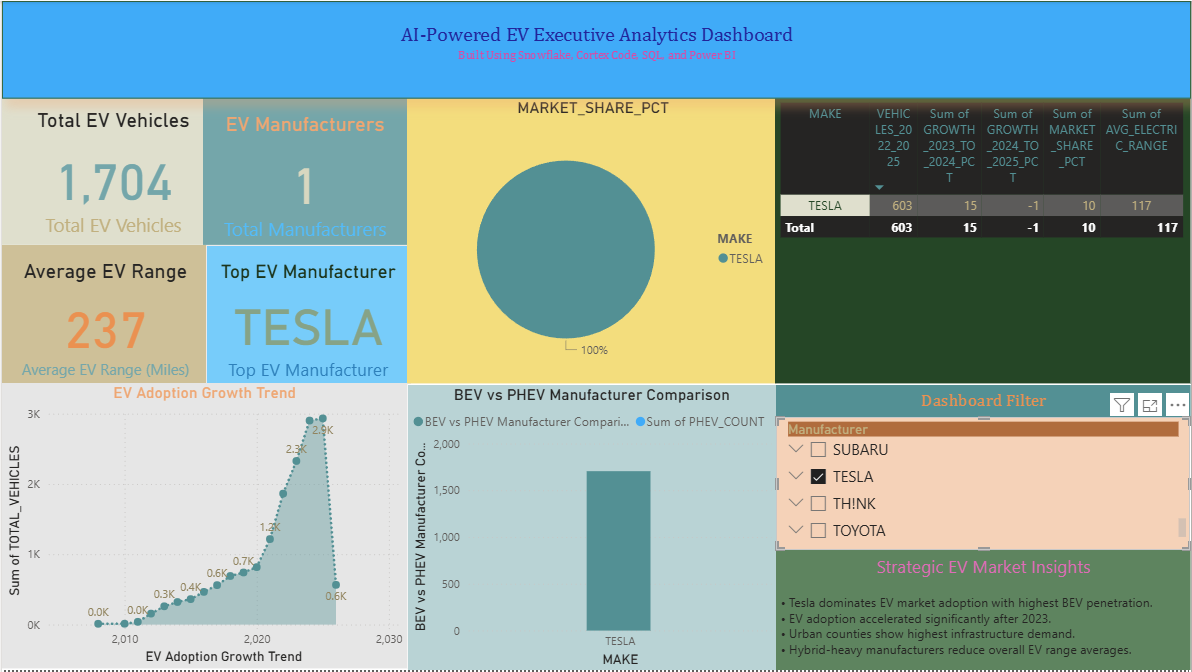

The page's visual inventory and layout, read from the dashboard file:
{"tool":"powerbi","page":{"name":"Page 1","canvas":[1280,720],"ordinal":0},"visuals":[{"type":"card","title":"Total EV Vehicles","fields":{"Values":["Sum(EV_ADOPTION_BY_MANUFACTURER.TOTAL_VEHICLES)"]},"box":[0,104.3,219.9,158.2],"z":0},{"type":"card","title":"EV Manufacturers","fields":{"Values":["EV_POPULATION_SILVER.Total Manufacturers"]},"box":[216.5,104.3,219.9,158.2],"z":1000},{"type":"card","title":"Average EV Range","fields":{"Values":["EV_ADOPTION_BY_MANUFACTURER.Average EV Range (Miles)"]},"box":[0,262.5,219.9,150.3],"z":2000},{"type":"card","title":"Top EV Manufacturer","fields":{"Values":["EV_POPULATION_SILVER.Top EV Manufacturer"]},"box":[219.9,262.5,219.9,149.2],"z":3000},{"type":"pieChart","title":"MARKET_SHARE_PCT","fields":{"Category":["EV_ADOPTION_BY_MANUFACTURER.MAKE"],"Y":["Sum(EV_ADOPTION_BY_MANUFACTURER.MARKET_SHARE_PCT)"]},"box":[436.1,104.8,396.7,307.2],"z":4000},{"type":"lineChart","title":"EV Adoption Growth Trend","fields":{"Category":["EV_GROWTH_BY_YEAR.MODEL_YEAR"],"Y":["Sum(EV_GROWTH_BY_YEAR.TOTAL_VEHICLES)"]},"box":[0,411,436.1,307.2],"z":5000},{"type":"columnChart","title":"BEV vs PHEV Manufacturer Comparison","fields":{"Category":["EV_ADOPTION_BY_MANUFACTURER.MAKE"],"Y":["Sum(EV_ADOPTION_BY_MANUFACTURER.BEV_COUNT)","Sum(EV_ADOPTION_BY_MANUFACTURER.PHEV_COUNT)"]},"box":[436.4,412.8,396,307.4],"z":6000},{"type":"tableEx","fields":{"Values":["EV_FASTEST_GROWING_MANUFACTURERS.MAKE","Sum(EV_FASTEST_GROWING_MANUFACTURERS.TOTAL_VEHICLES_2022_2025)","Sum(EV_FASTEST_GROWING_MANUFACTURERS.GROWTH_2023_TO_2024_PCT)","Sum(EV_FASTEST_GROWING_MANUFACTURERS.GROWTH_2024_TO_2025_PCT)","Sum(EV_FASTEST_GROWING_MANUFACTURERS.MARKET_SHARE_PCT)","Sum(EV_FASTEST_GROWING_MANUFACTURERS.AVG_ELECTRIC_RANGE)"]},"box":[831.9,104.8,447.8,307.2],"z":7000},{"type":"textbox","box":[832.8,590.1,446.9,129.9],"z":8000},{"type":"textbox","box":[0,0,1279.7,104.8],"z":9000},{"type":"textbox","box":[832.8,412.8,446.9,34.9],"z":10000},{"type":"slicer","fields":{"Values":["EV_POPULATION_SILVER.MAKE","EV_POPULATION_SILVER.MODEL_YEAR","EV_POPULATION_SILVER.ELECTRIC_VEHICLE_TYPE"]},"box":[832.5,447.5,446.4,143.1],"z":11000}]}

Visuals, with their boxes in screenshot pixels (x1, y1, x2, y2), scaled from the page's 1280x720 canvas onto the 1192x672 screenshot:
"Total EV Vehicles" card: select_region(0, 97, 205, 245)
"EV Manufacturers" card: select_region(202, 97, 406, 245)
"Average EV Range" card: select_region(0, 245, 205, 385)
"Top EV Manufacturer" card: select_region(205, 245, 410, 384)
"MARKET_SHARE_PCT" pieChart: select_region(406, 98, 776, 385)
"EV Adoption Growth Trend" lineChart: select_region(0, 384, 406, 670)
"BEV vs PHEV Manufacturer Comparison" columnChart: select_region(406, 385, 775, 671)
tableEx - EV_FASTEST_GROWING_MANUFACTURERS.MAKE x Sum(EV_FASTEST_GROWING_MANUFACTURERS.TOTAL_VEHICLES_2022_2025): select_region(775, 98, 1191, 385)
textbox: select_region(776, 551, 1191, 671)
textbox: select_region(0, 0, 1191, 98)
textbox: select_region(776, 385, 1191, 418)
slicer - EV_POPULATION_SILVER.MAKE x EV_POPULATION_SILVER.MODEL_YEAR: select_region(775, 418, 1191, 551)
